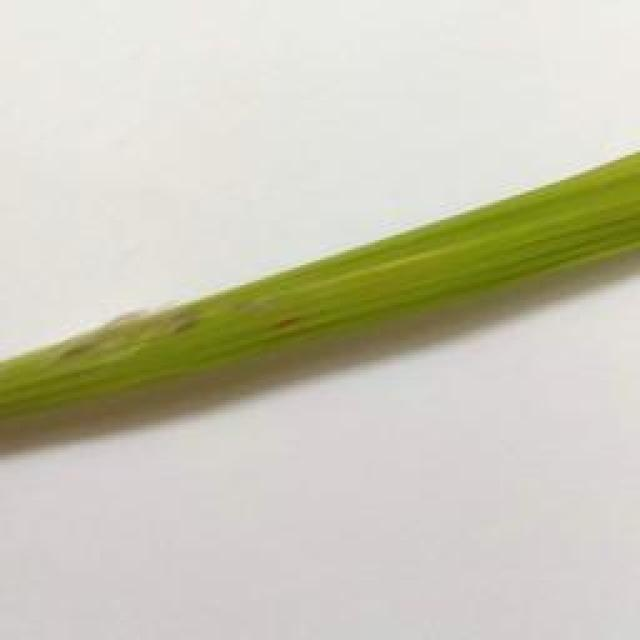Brown_Spot: (266, 300, 306, 336)
